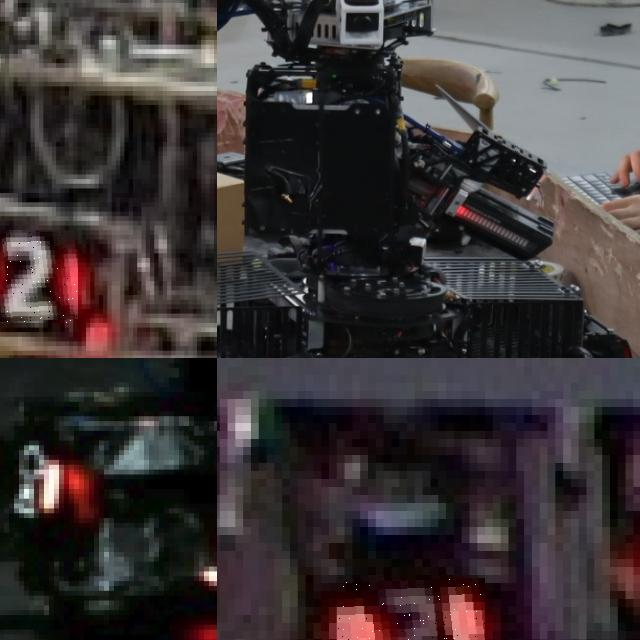R2: (336, 575, 485, 640), (0, 230, 77, 323)
